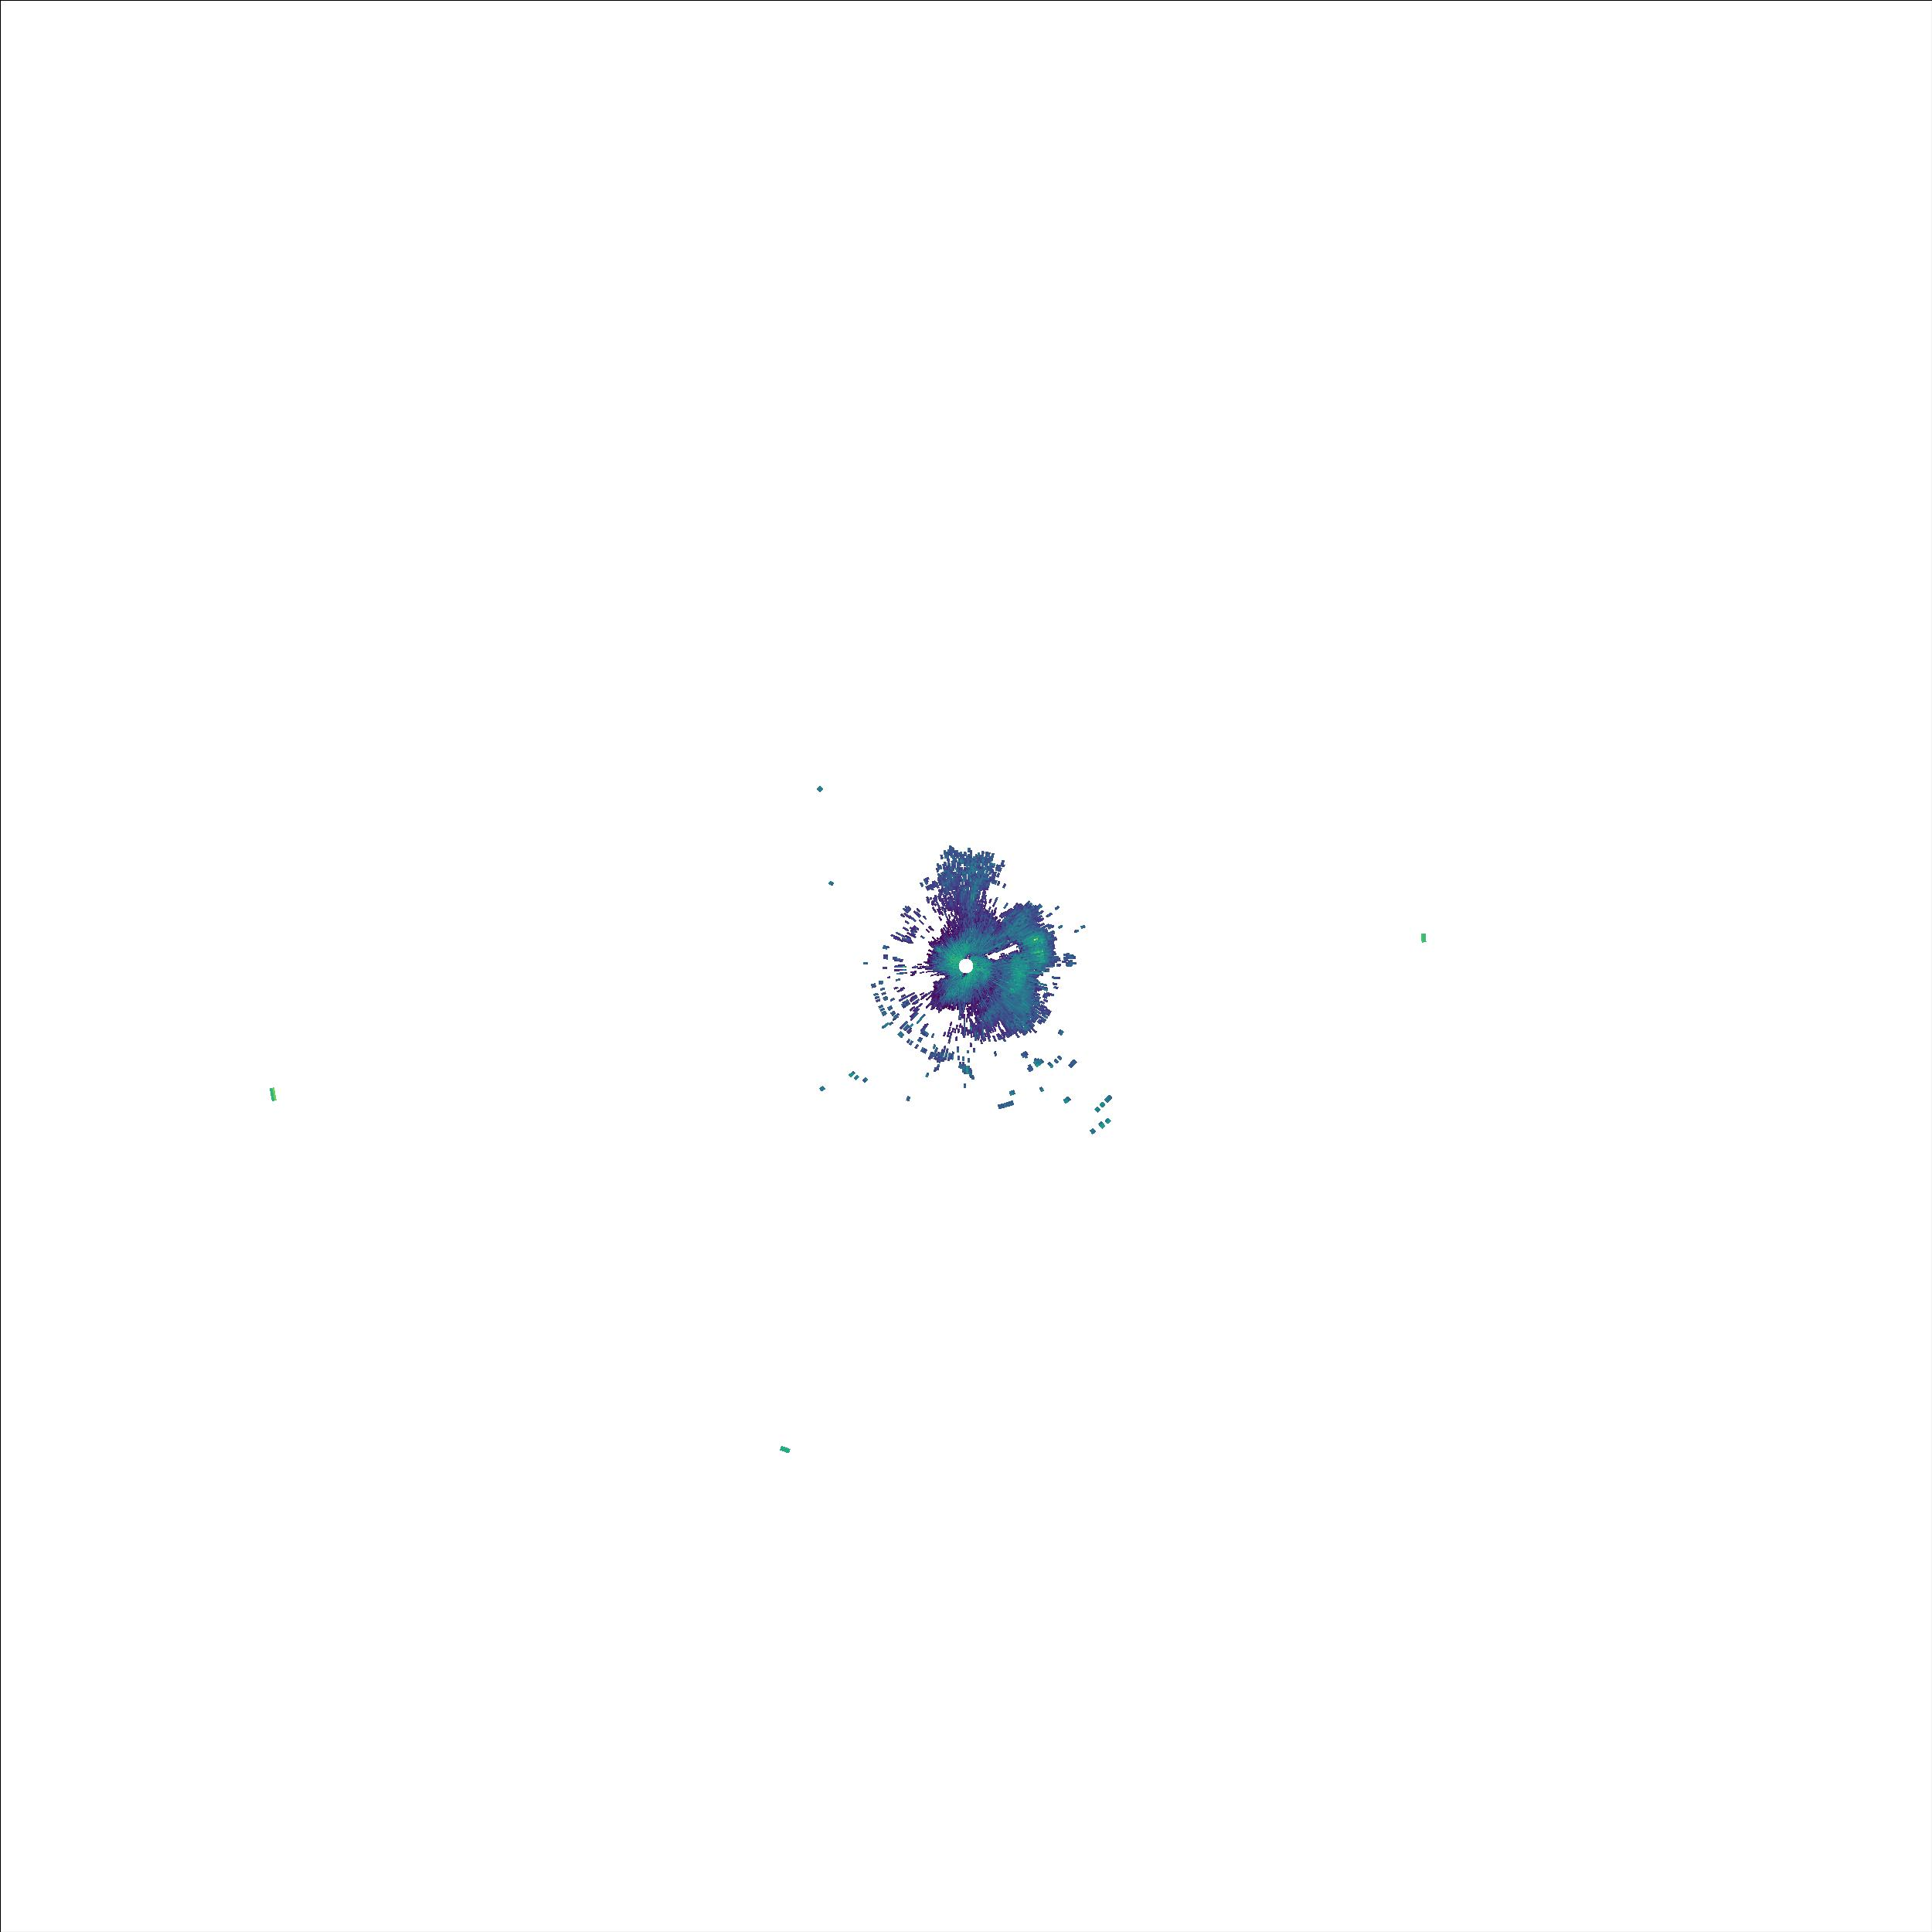fall: (844, 1065, 870, 1086)
